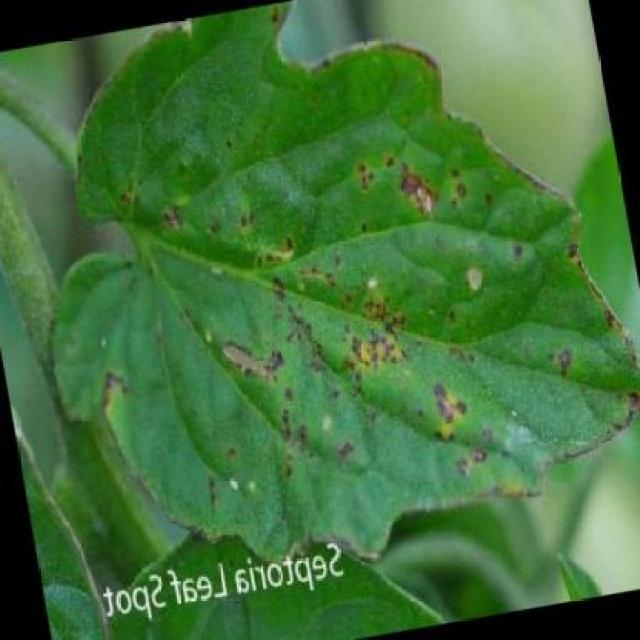Septoria leaf spot: (65, 1, 640, 558)
